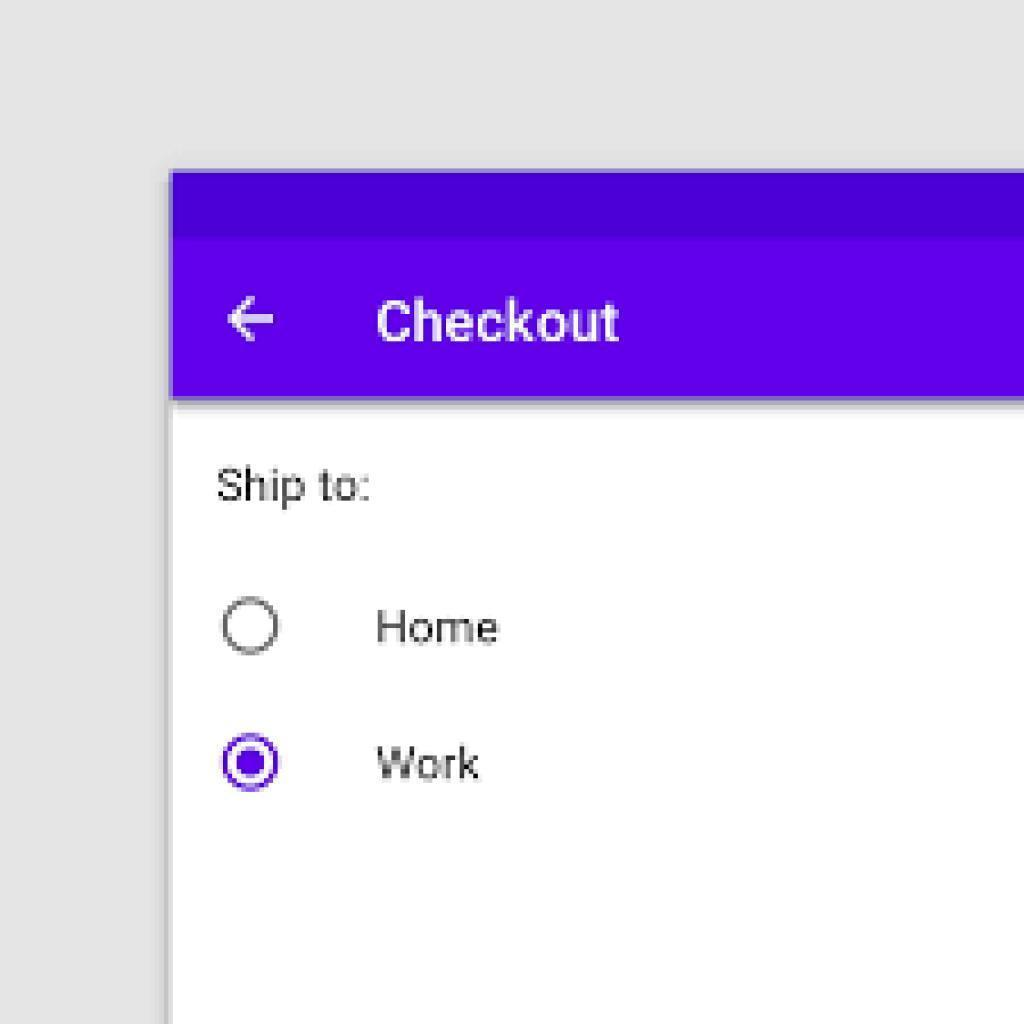icon: (219, 290, 284, 349)
label: (373, 291, 629, 349), (207, 456, 380, 513), (367, 600, 513, 652), (370, 734, 489, 792)
radio: (216, 726, 283, 798), (217, 591, 284, 662)
